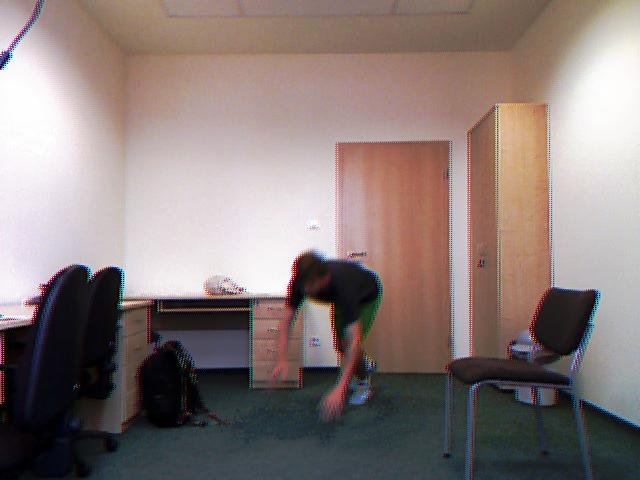near-fall: (268, 239, 395, 440)
